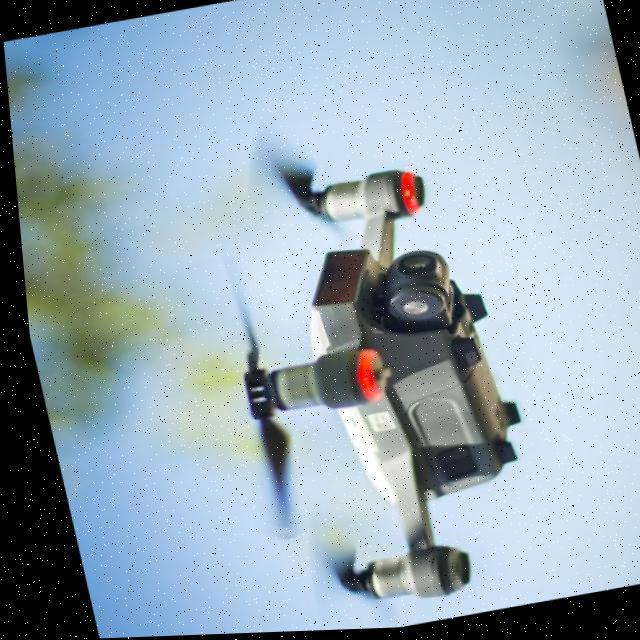drones: (137, 61, 602, 636)
